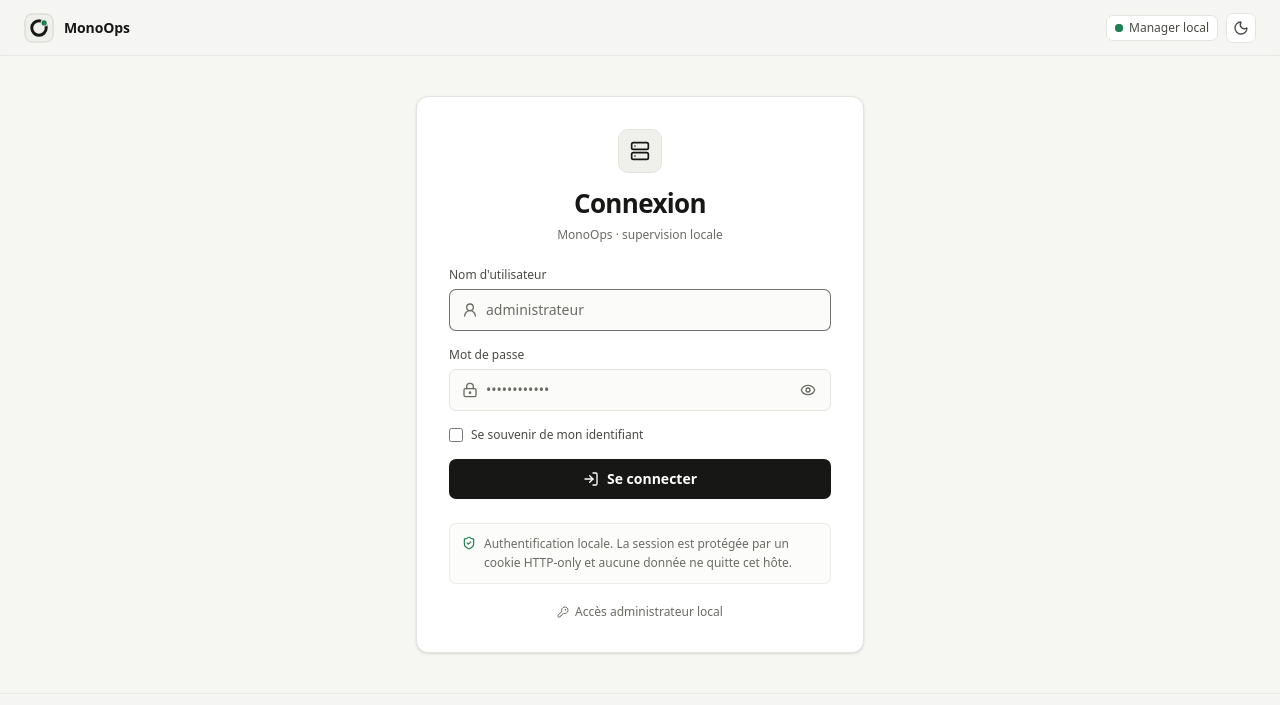
Scenario: LoginPage › validates required fields before sending credentials
Click the button "Se connecter".
click(640, 479)  # box [449, 459, 831, 499]
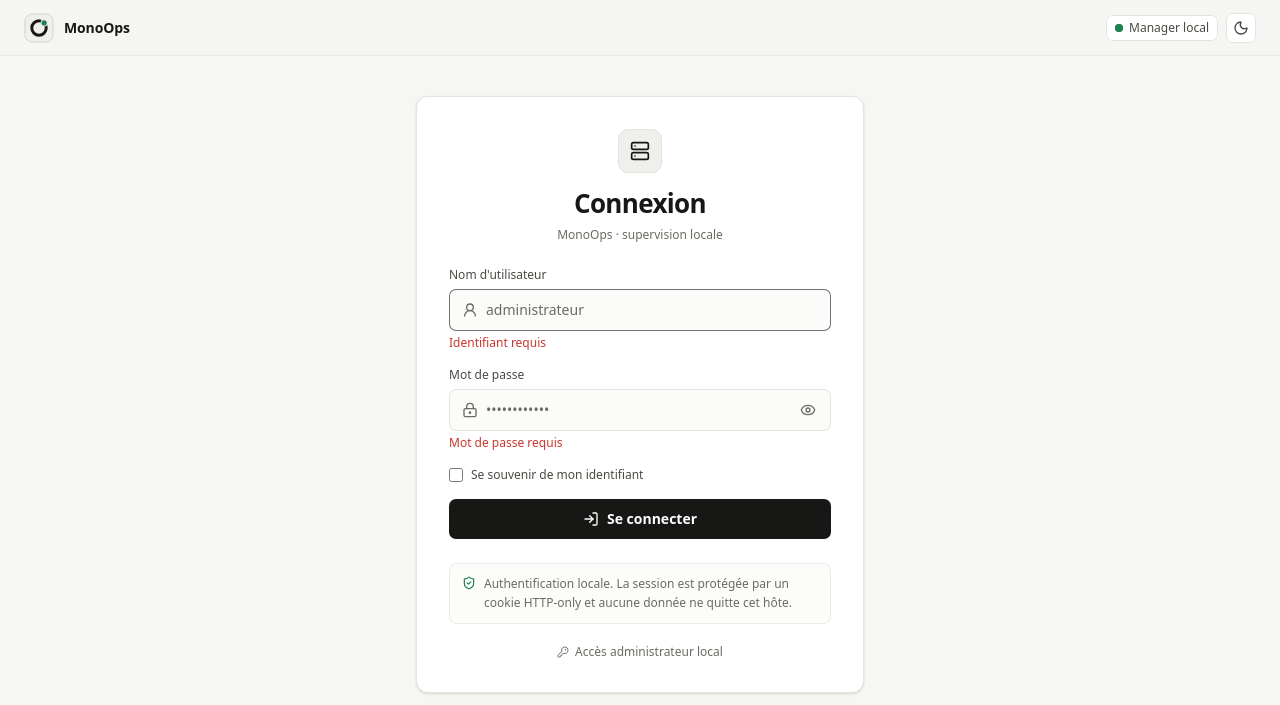
Check: the text "Identifiant requis" is shown, box [449, 334, 546, 351]
Check: the text "Mot de passe requis" is shown, box [449, 434, 562, 451]
